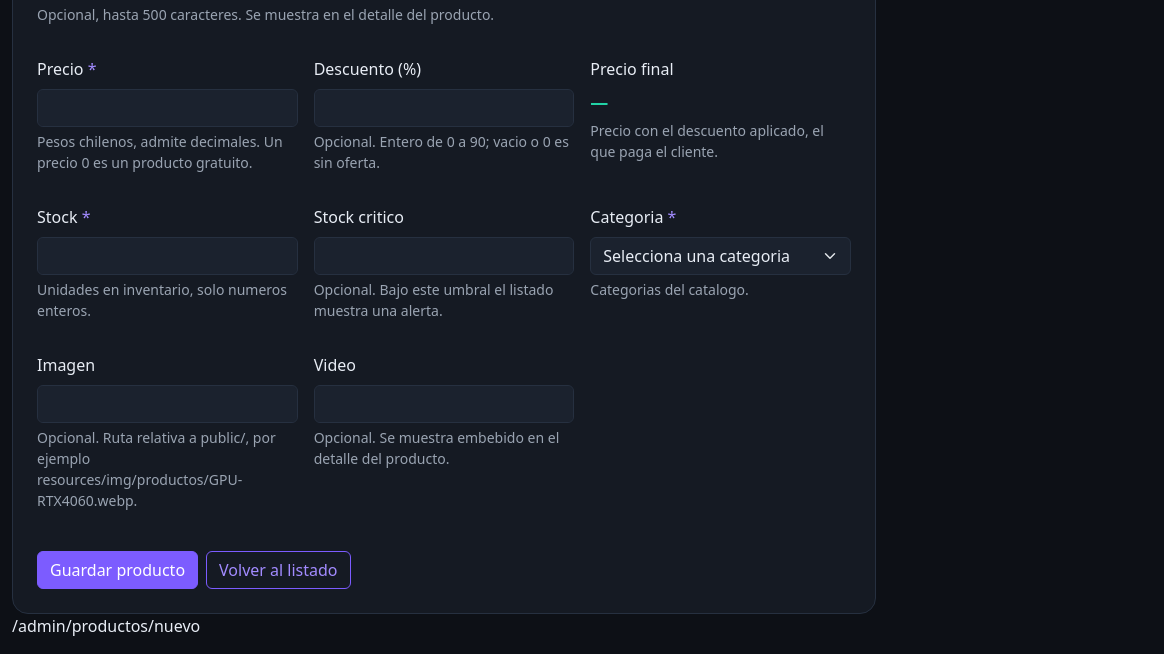
Test: admin / FormularioProducto › crear › enviar vacio muestra un error por campo obligatorio y no crea el producto (RF-10 CA3)
(page scrolled)
Click the button "Guardar producto" at (118, 570), box [37, 551, 198, 589]
(page scrolled)
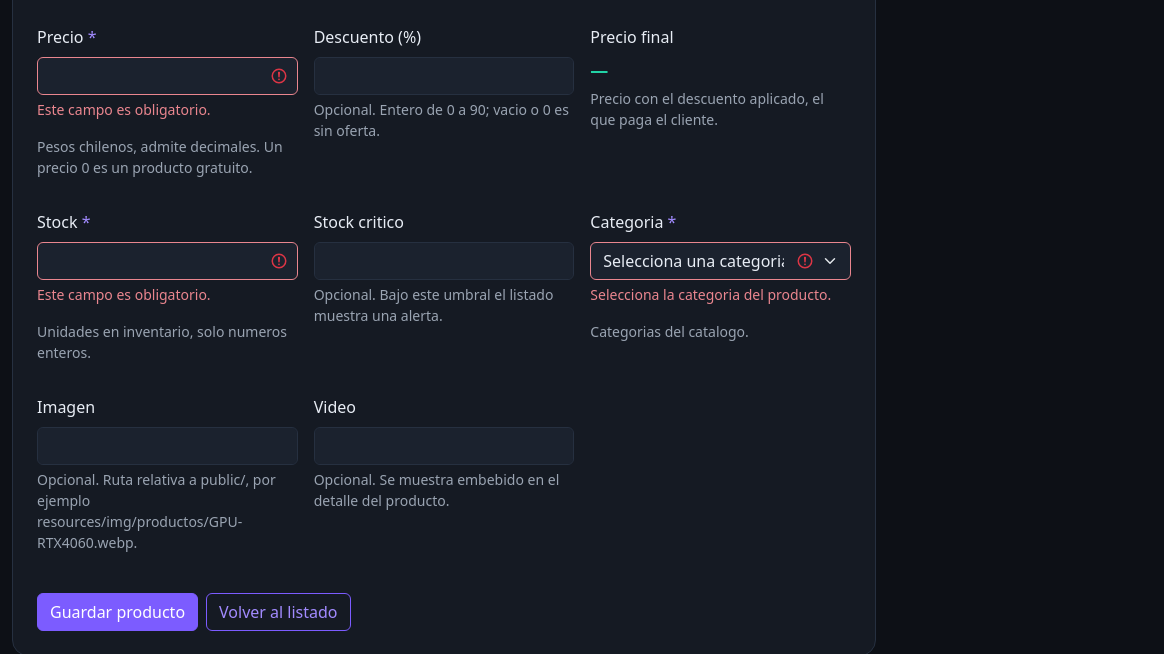
Expected: the text "Selecciona la categoria del producto." is shown, [590, 284, 851, 305]
